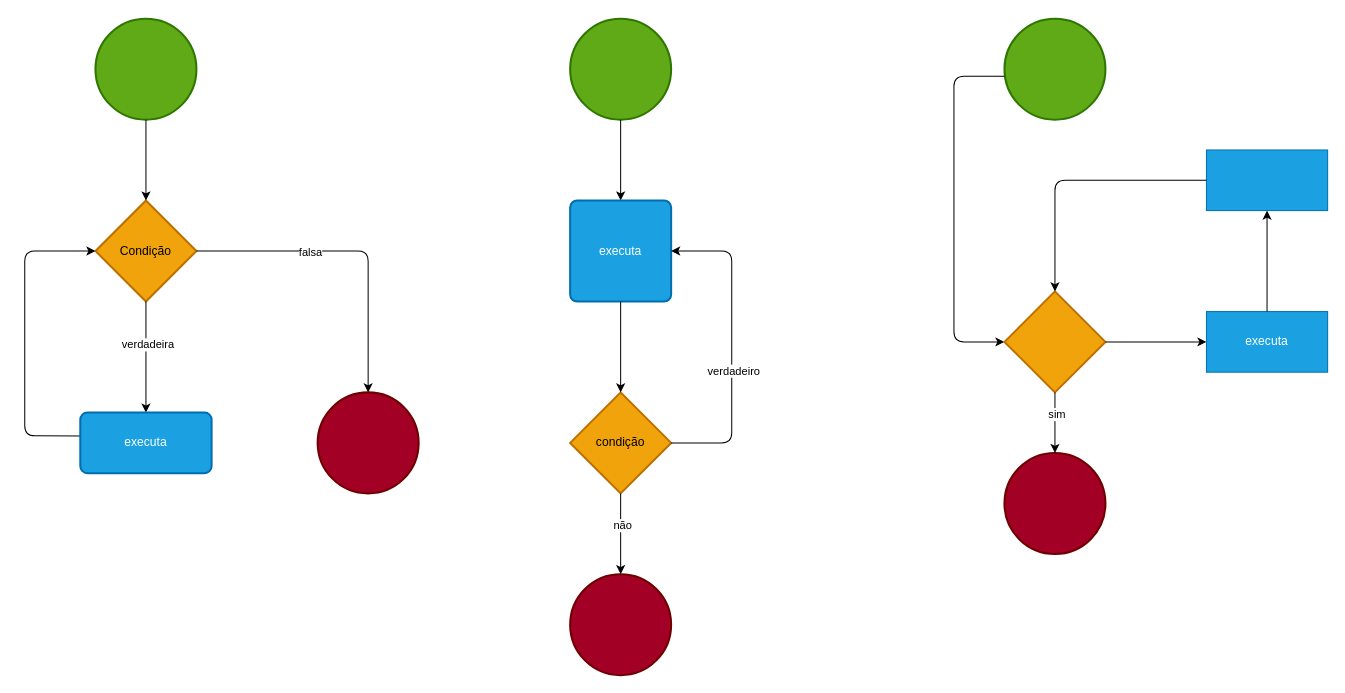
This 1345x693 diagram has some shape labels left out. The centre of each missing label's shape, as x and y in pixels:
Incrementa a contagem: (x=1266, y=180)
ultima ?: (x=1054, y=341)
